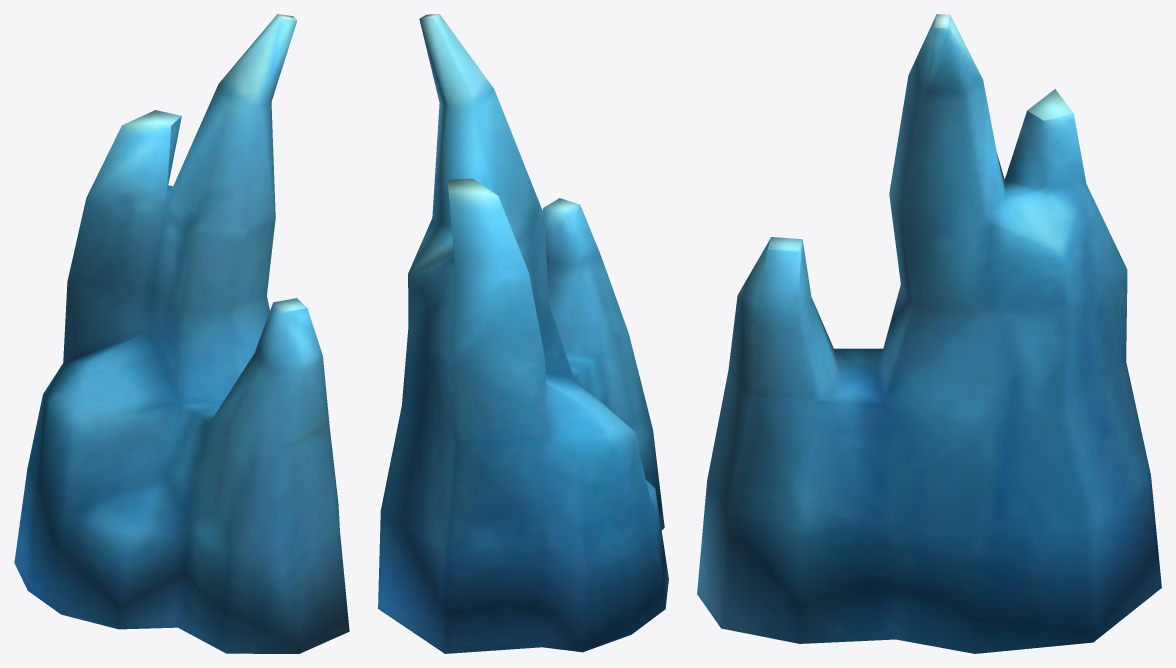
File: Stage_ZhuCheng_BingLing03.FBX
3 renders of one model, left to right at view 1: azimuth 30°, elevation 25°; view 2: azimuth 150°, elevation 25°; view 3: azimuth 270°, elevation 25°, orthographic. The views are drawn at different scales.
Parts seen in each view (by area): view 1: Stage_ZhuCheng_BingLing03; view 2: Stage_ZhuCheng_BingLing03; view 3: Stage_ZhuCheng_BingLing03.
Boxes of the visible parts, x1,y1,x2,y2 form: Stage_ZhuCheng_BingLing03: (14, 14, 349, 653); Stage_ZhuCheng_BingLing03: (378, 14, 668, 653); Stage_ZhuCheng_BingLing03: (697, 14, 1161, 653).
Size of the model in its own units: 116 by 251 by 167.
